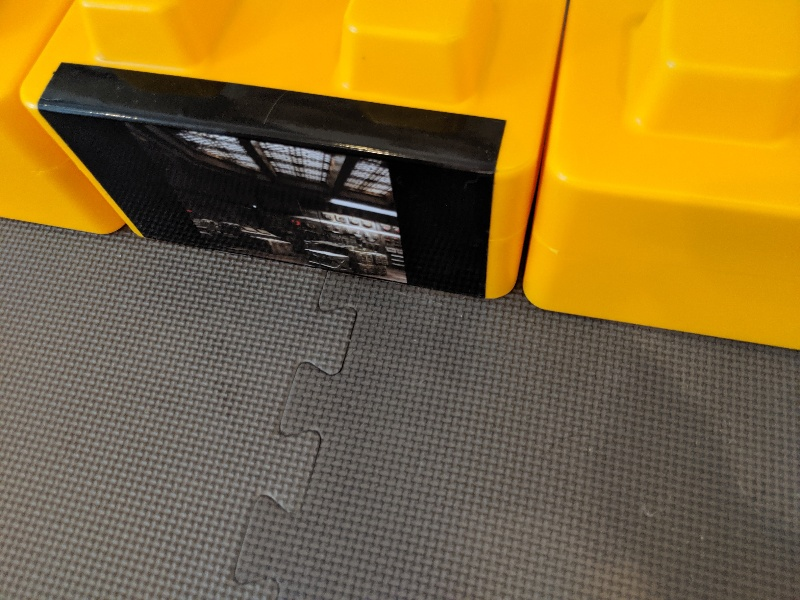Skystone: (25, 45, 509, 322)
